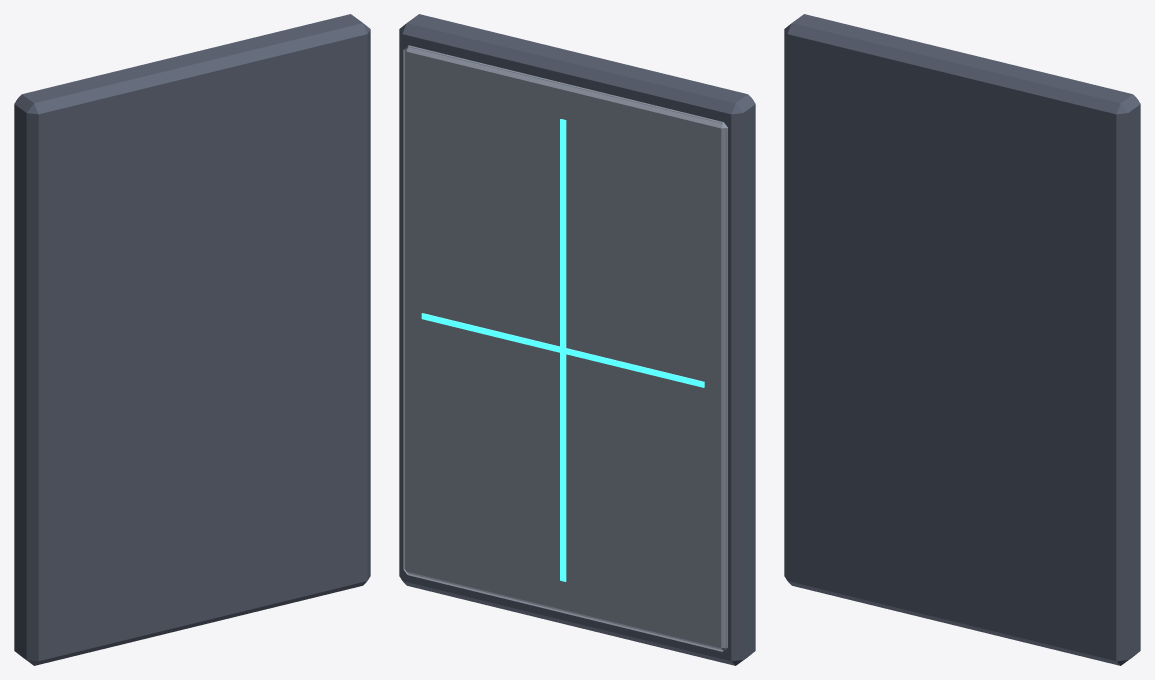
Rendered from platform_ramp_up.glb.
3 renders of one model, left to right at view 1: azimuth 30°, elevation 25°; view 2: azimuth 150°, elevation 25°; view 3: azimuth 330°, elevation 25°, orthographic.
Parts seen in each view (by area): view 1: platform_ramp_up; view 2: platform_ramp_up; view 3: platform_ramp_up.
Part boxes in pixels (box(x1,y1,x2,y2)): platform_ramp_up: box(14, 14, 370, 665); platform_ramp_up: box(399, 14, 755, 665); platform_ramp_up: box(784, 14, 1140, 665).
Bounding box in the file's own units: 3.2 × 5 × 0.406.
